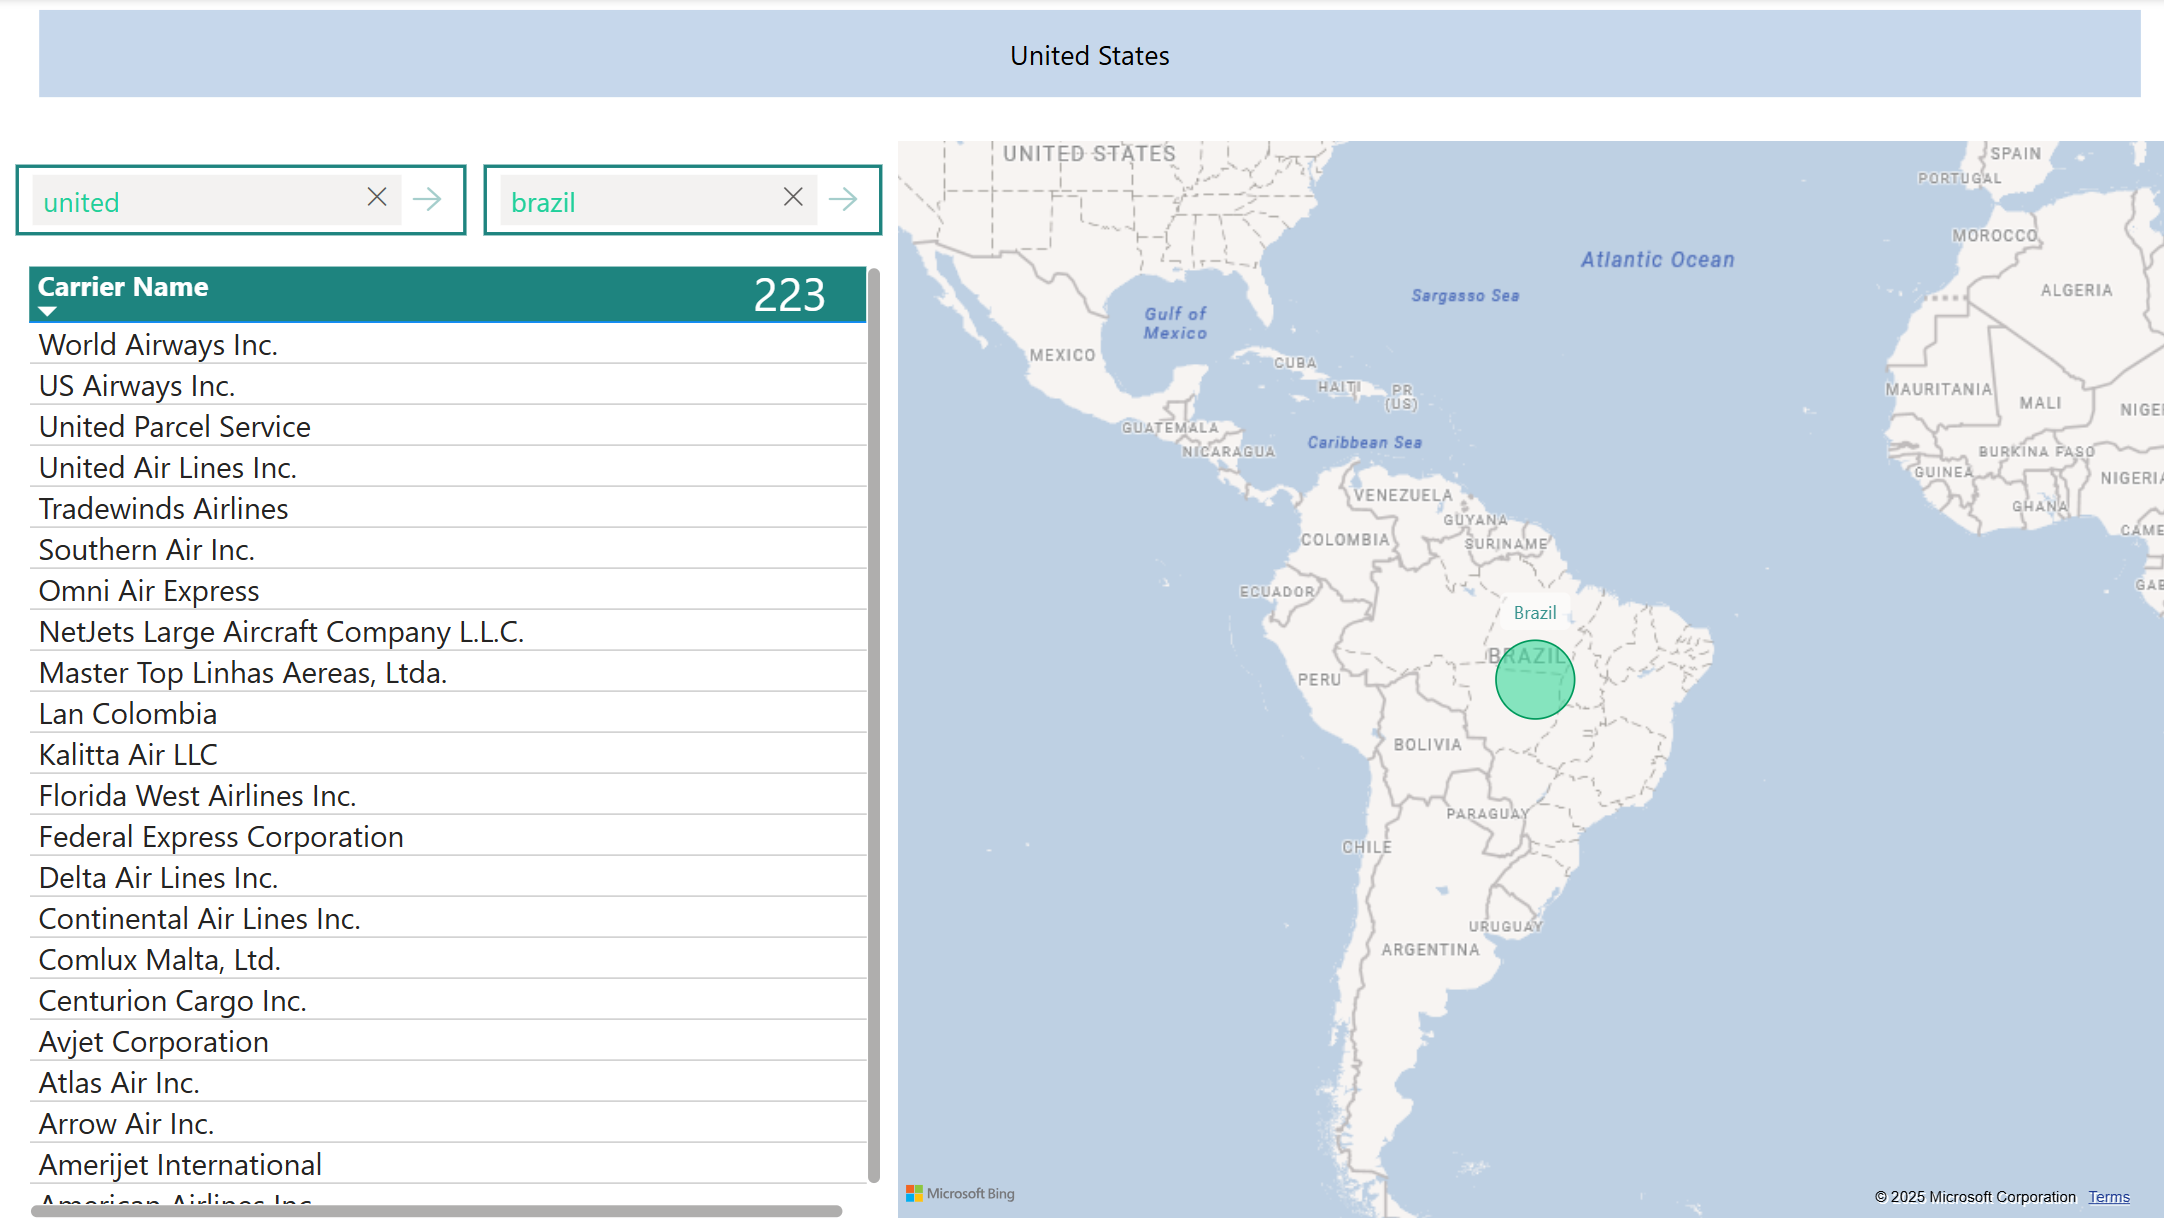

What the dashboard file says about the page in this screenshot:
{"tool":"powerbi","page":{"name":"Map","canvas":[1280,720],"ordinal":1},"visuals":[{"type":"map","fields":{"Size":["Measure.Load_Factor"],"Category":["Final Table.Destination Country"]},"box":[523.3,78.9,756.7,641.1],"z":0},{"type":"slicer","fields":{"Values":["Final Table.Origin Country"]},"box":[0,0,1280,65],"z":1000},{"type":"textSlicer","fields":{"Values":["Final Table.Origin"]},"box":[7.5,92.5,273.8,50],"z":2000},{"type":"textSlicer","fields":{"Values":["Final Table.Destination "]},"box":[281.1,92.2,243.3,50],"z":3000},{"type":"tableEx","title":"Carrier by load factor","fields":{"Values":["Final Table.Carrier Name"]},"box":[13.8,152.5,510,567.5],"z":6000},{"type":"card","fields":{"Values":["Measure.Count of airline_map"]},"box":[423.3,156.7,83.3,34.4],"z":7000}]}

Visuals, with their boxes in screenshot pixels (x1, y1, x2, y2), scaled from the page's 1280x720 canvas onto the 2164x1220 screenshot:
map - Measure.Load_Factor x Final Table.Destination Country: {"x1": 885, "y1": 134, "x2": 2163, "y2": 1219}
slicer - Final Table.Origin Country: {"x1": 0, "y1": 0, "x2": 2163, "y2": 110}
textSlicer - Final Table.Origin: {"x1": 13, "y1": 157, "x2": 476, "y2": 241}
textSlicer - Final Table.Destination : {"x1": 475, "y1": 156, "x2": 887, "y2": 241}
"Carrier by load factor" tableEx: {"x1": 23, "y1": 258, "x2": 886, "y2": 1219}
card - Measure.Count of airline_map: {"x1": 716, "y1": 266, "x2": 856, "y2": 324}
